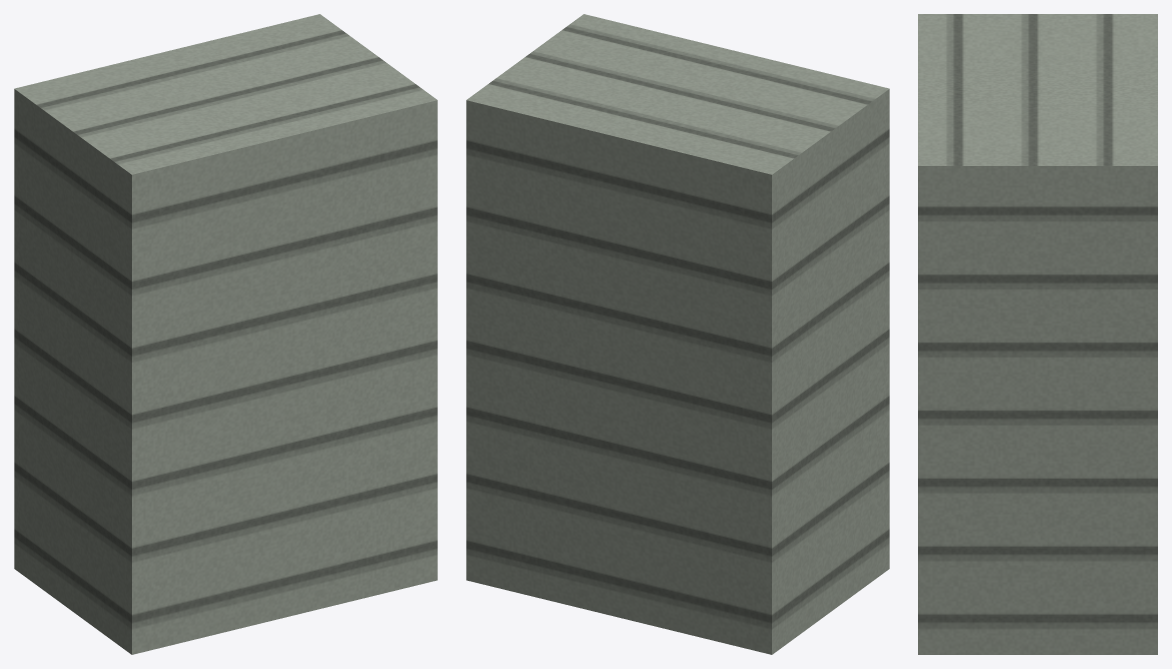
File: period_radio_cabinet_console.glb
3 views of the same model, side by side, from view 1: azimuth 30°, elevation 25°; view 2: azimuth 150°, elevation 25°; view 3: azimuth 270°, elevation 25° (orthographic).
Visible parts, largest first — view 1: period_radio_cabinet_console-col; view 2: period_radio_cabinet_console-col; view 3: period_radio_cabinet_console-col.
Part boxes in pixels (x1,y1,x2,y2): period_radio_cabinet_console-col: (14,14,437,654); period_radio_cabinet_console-col: (466,14,889,654); period_radio_cabinet_console-col: (918,14,1157,654).
Bounding box in the file's own units: 0.6 × 0.9 × 0.4.
Materials: 1 (1 with a texture image).
